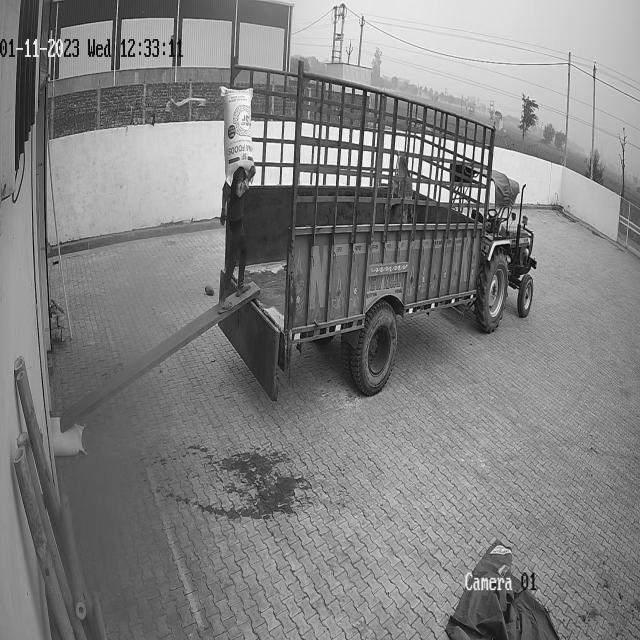sack: (220, 86, 253, 187), (50, 416, 83, 456)
